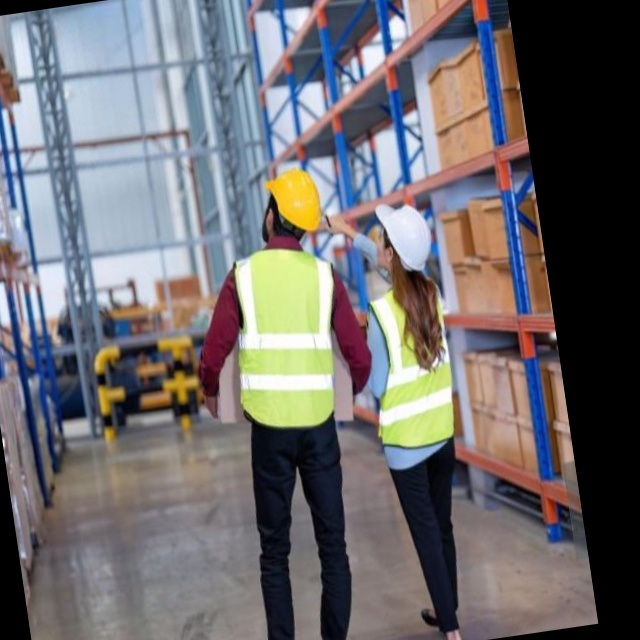Con_Casco: (358, 198, 440, 292)
Con_Chaleco: (226, 238, 352, 441), (358, 280, 465, 457)
